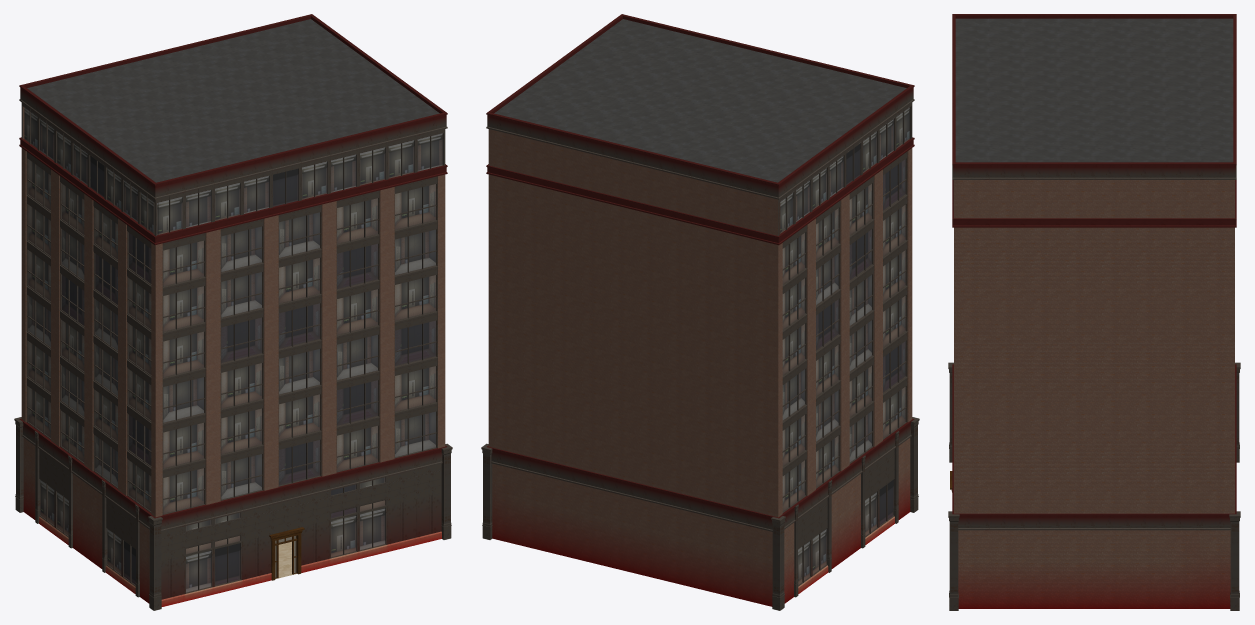
The model's file is Building_Large_2.gltf.
The picture shows the model from 3 angles, left to right: view 1: azimuth 30°, elevation 25°; view 2: azimuth 150°, elevation 25°; view 3: azimuth 270°, elevation 25°; orthographic projection. The views are drawn at different scales.
Visible parts, largest first — view 1: Building_Large_2; view 2: Building_Large_2; view 3: Building_Large_2.
Part boxes in pixels (x1,y1,x2,y2): Building_Large_2: [14, 14, 452, 610]; Building_Large_2: [481, 14, 919, 610]; Building_Large_2: [948, 14, 1240, 610].
Size of the model in its own units: 20.64 by 28 by 16.64.
Materials: 12 (11 with a texture image).
